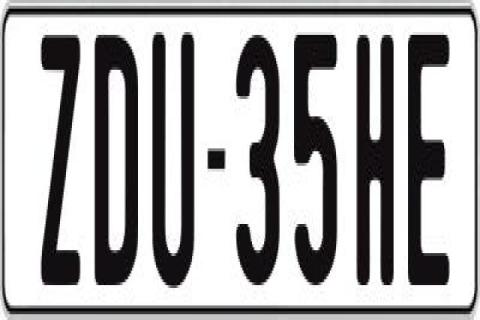0: (294, 26, 342, 276), (236, 35, 280, 294)
D: (92, 32, 136, 294)
E: (406, 29, 452, 285)
H: (354, 26, 391, 291)
U: (150, 32, 192, 294)
Z: (41, 35, 83, 294)
